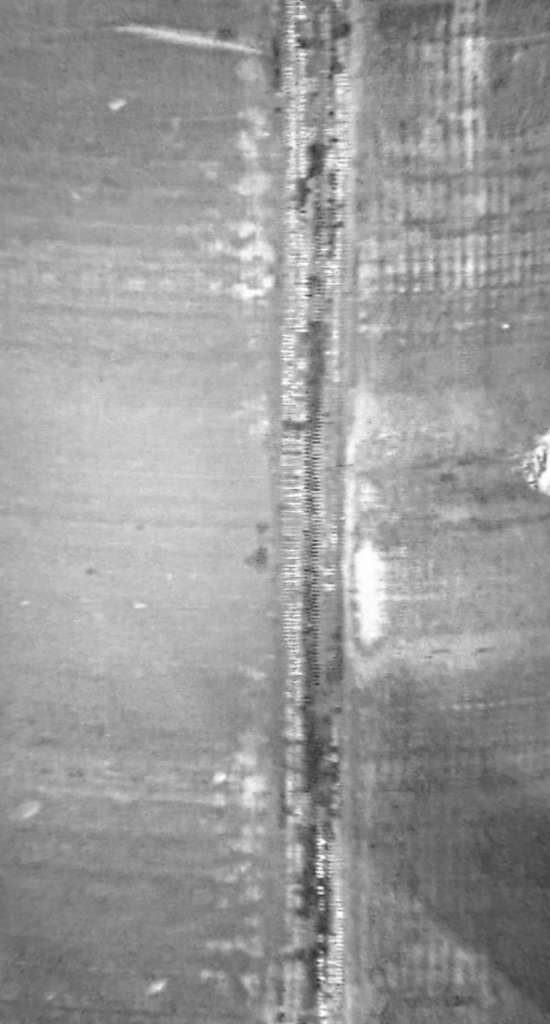splice: (263, 4, 365, 1024)
